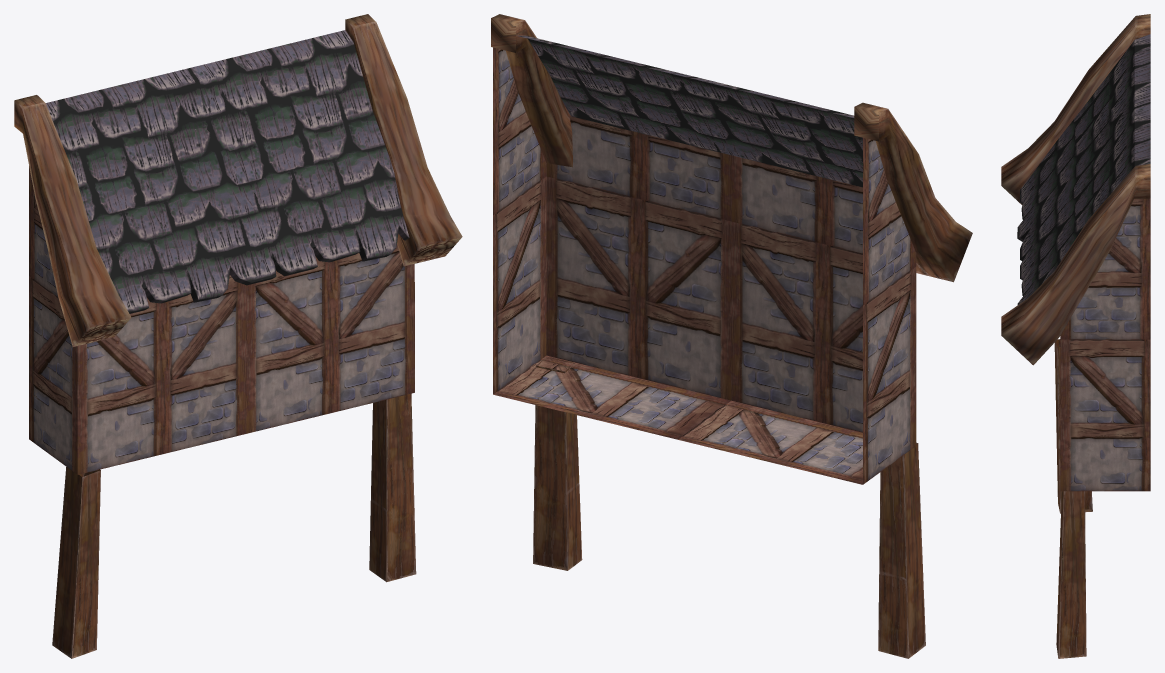
Rendered from wall_roof_pillar_higher1x2.fbx.
The picture shows the model from 3 angles, left to right: view 1: azimuth 30°, elevation 25°; view 2: azimuth 150°, elevation 25°; view 3: azimuth 270°, elevation 25°; orthographic projection. The views are drawn at different scales.
Visible parts, largest first — view 1: wall_roof_pillar_higher1x2; view 2: wall_roof_pillar_higher1x2; view 3: wall_roof_pillar_higher1x2.
Part boxes in pixels (box(x1,y1,x2,y2)): wall_roof_pillar_higher1x2: box(14, 14, 462, 658); wall_roof_pillar_higher1x2: box(491, 14, 972, 658); wall_roof_pillar_higher1x2: box(1001, 14, 1150, 658).
Bounding box in the file's own units: 331 × 445 × 124.
